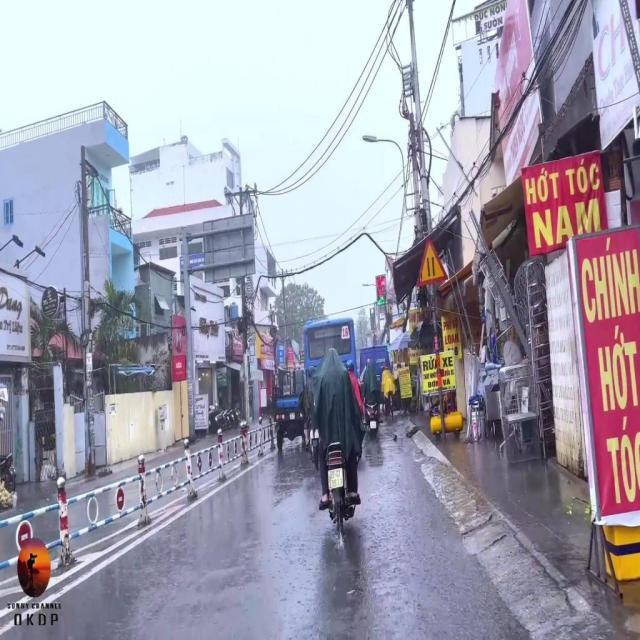khac: (416, 235, 449, 288)
